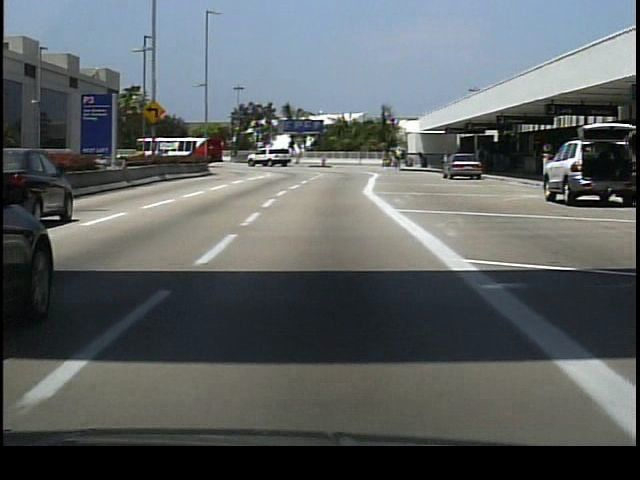person: (475, 149, 491, 180), (394, 146, 404, 174)
